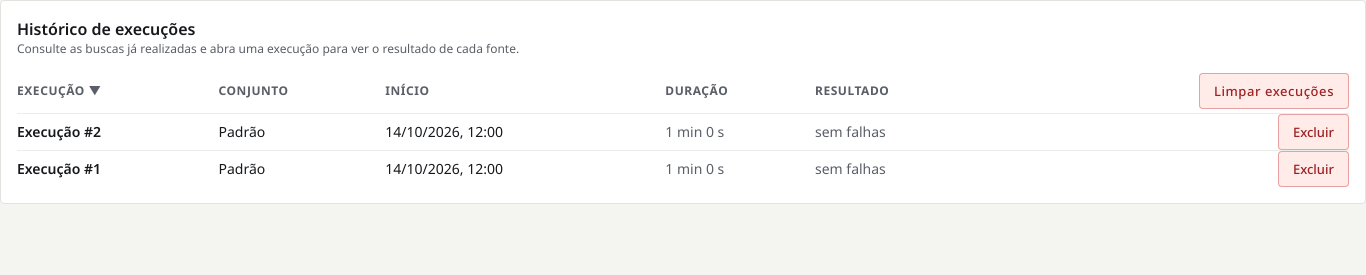
Test case: ExecucoesPage — excluir uma execução › erro da API aparece em linguagem simples
The width and height of the screenshot is (1366, 275).
Click the button with aria-label "Excluir execução #1". click: (1313, 169)
box: [1278,151,1349,187]
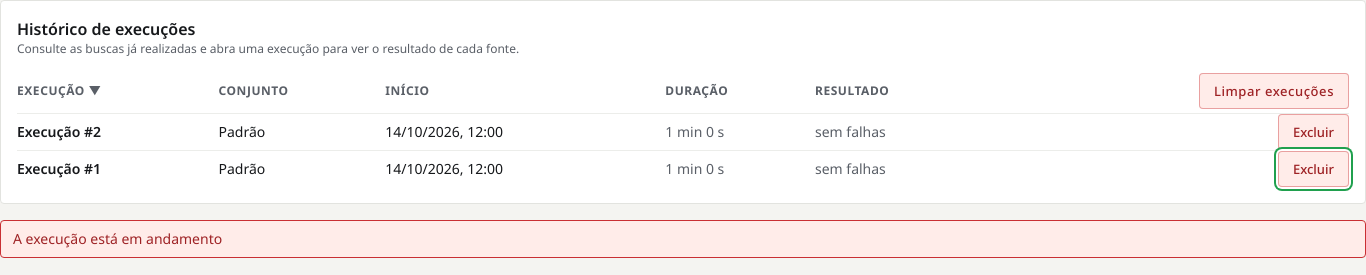
Check: the text "A execução está em andamento" is shown, box [0,220,1365,258]
